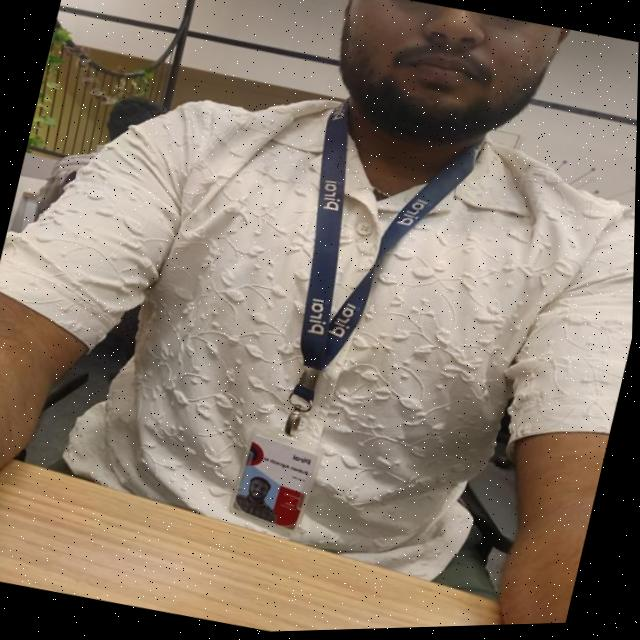id_card: (223, 100, 497, 566)
